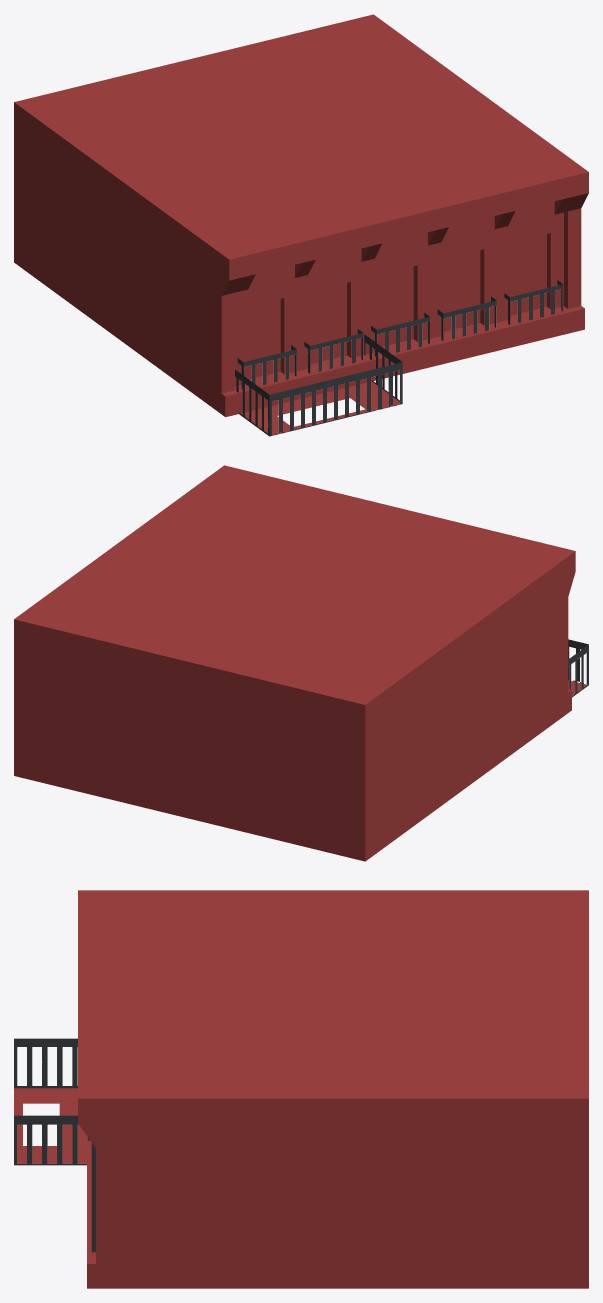
Rendered from building middle roof.fbx.
3 views of the same model, one above another, from view 1: azimuth 30°, elevation 25°; view 2: azimuth 150°, elevation 25°; view 3: azimuth 270°, elevation 25° (orthographic). The views are drawn at different scales.
Parts seen in each view (by area): view 1: Building Middle Top; view 2: Building Middle Top; view 3: Building Middle Top.
Boxes of the visible parts, bbox=[...] form: Building Middle Top: bbox=[14, 14, 588, 436]; Building Middle Top: bbox=[14, 465, 588, 861]; Building Middle Top: bbox=[14, 890, 588, 1288].
Bounding box in the file's own units: 540 × 230 × 630.
